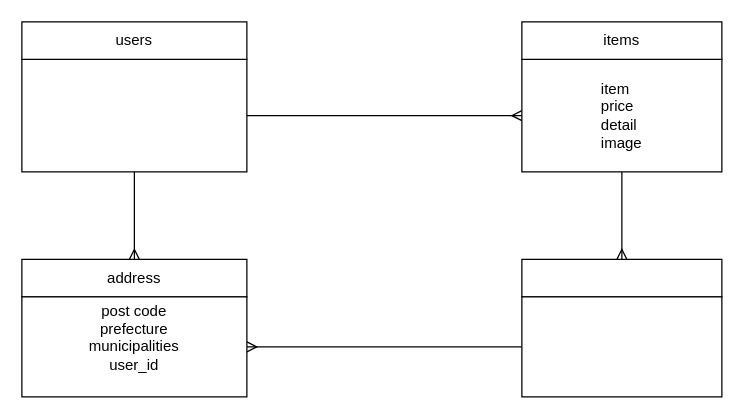
This 744x419 diagram has some shape labels left out. The centre of each missing label's shape, as x and y in pixels:
nick name name email password profile phone number: the point at 134,115
purchase_history: the point at 621,277
user_id address_id item_id: the point at 621,346
